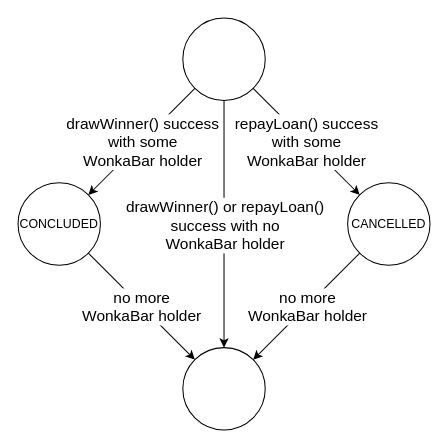
The diagram is 448 pixels wide and 448 high, and some of its shapes have lost their labels. Each missing label, with the centre of its shape:
"ACTIVE" goes at [223,58].
"TRASHED" goes at [223,388].
